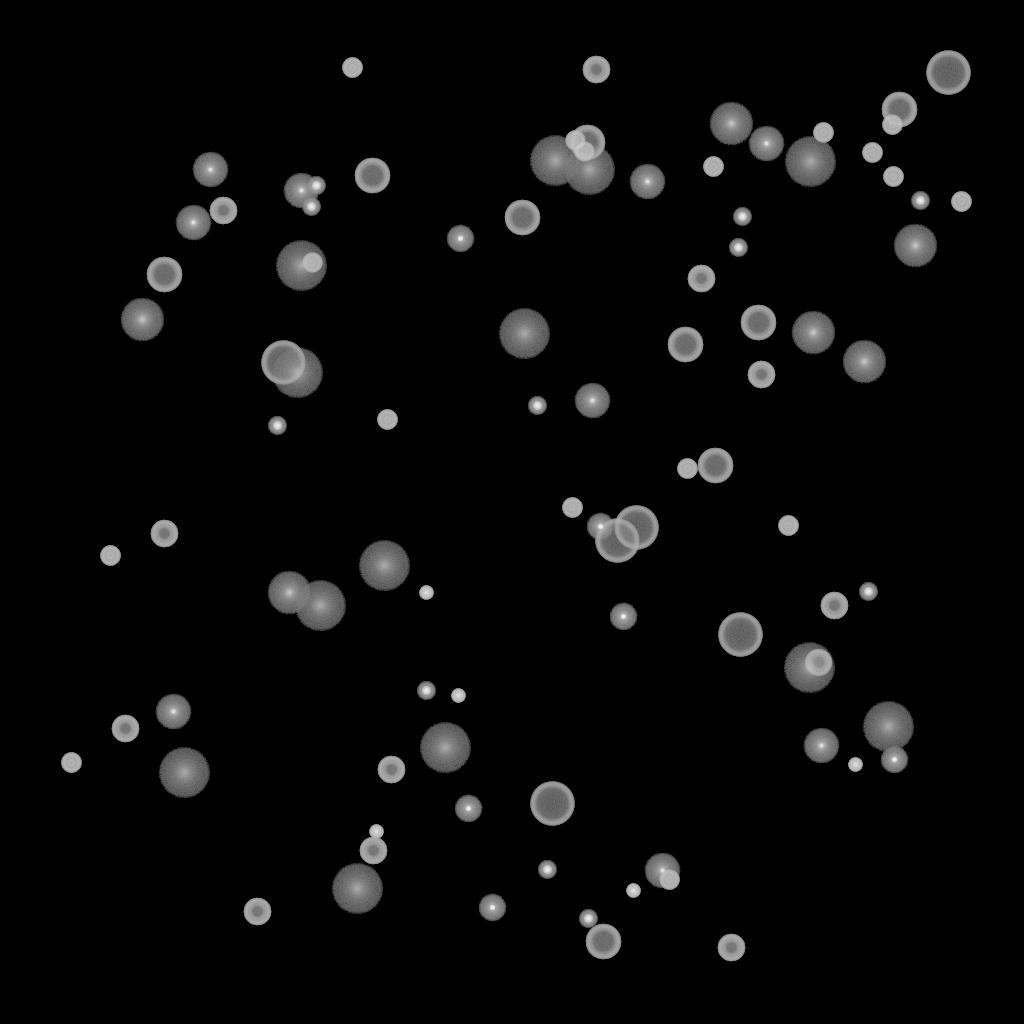depth:-10: (454, 795, 482, 823), (609, 603, 637, 631), (446, 225, 474, 253), (880, 746, 908, 774), (478, 894, 506, 922), (586, 513, 614, 541)
depth:-20: (307, 177, 325, 195), (538, 861, 556, 879), (733, 208, 751, 226), (729, 239, 747, 257), (859, 583, 877, 601), (528, 397, 546, 415), (302, 198, 320, 216), (911, 192, 929, 210), (417, 682, 435, 700), (579, 910, 597, 928), (268, 417, 286, 435)
depth:-30: (848, 758, 862, 772), (626, 884, 640, 898), (451, 689, 465, 703), (419, 586, 433, 600), (369, 825, 383, 839)
depth:-40: (61, 753, 81, 773), (677, 459, 697, 479), (100, 546, 120, 566), (302, 253, 322, 273), (882, 115, 902, 135), (377, 410, 397, 430), (574, 142, 594, 162), (813, 123, 833, 143), (951, 192, 971, 212), (342, 58, 362, 78), (565, 131, 585, 151), (562, 498, 582, 518), (659, 870, 679, 890), (778, 516, 798, 536), (883, 167, 903, 187), (862, 143, 882, 163), (703, 157, 723, 177)
depth:-50: (111, 715, 139, 743), (377, 756, 405, 784), (717, 934, 745, 962), (747, 361, 775, 389), (820, 592, 848, 620), (209, 197, 237, 225), (687, 265, 715, 293), (582, 56, 610, 84), (243, 898, 271, 926), (804, 649, 832, 677), (359, 837, 387, 865), (150, 520, 178, 548)
depth:-60: (585, 924, 621, 960), (504, 200, 540, 236), (569, 125, 605, 161), (697, 448, 733, 484), (667, 327, 703, 363), (740, 305, 776, 341), (354, 158, 390, 194), (146, 257, 182, 293), (881, 92, 917, 128)
depth:-70: (595, 519, 639, 563), (718, 613, 762, 657), (926, 51, 970, 95), (614, 506, 658, 550), (530, 782, 574, 826), (261, 341, 305, 385)
depth:0: (629, 164, 665, 200), (155, 694, 191, 730), (748, 126, 784, 162), (192, 152, 228, 188), (283, 173, 319, 209), (803, 728, 839, 764), (574, 383, 610, 419), (644, 853, 680, 889), (175, 205, 211, 241)
depth:10: (120, 298, 164, 342), (893, 224, 937, 268), (267, 571, 311, 615), (709, 102, 753, 146), (791, 311, 835, 355), (842, 340, 886, 384)
depth:20: (563, 145, 615, 195), (862, 702, 914, 752), (783, 643, 835, 693), (275, 241, 327, 291), (331, 864, 383, 914), (358, 541, 410, 591), (419, 723, 471, 773), (294, 581, 346, 631), (158, 748, 210, 798), (271, 348, 323, 398), (498, 309, 550, 359), (784, 137, 836, 187), (529, 136, 581, 186)
